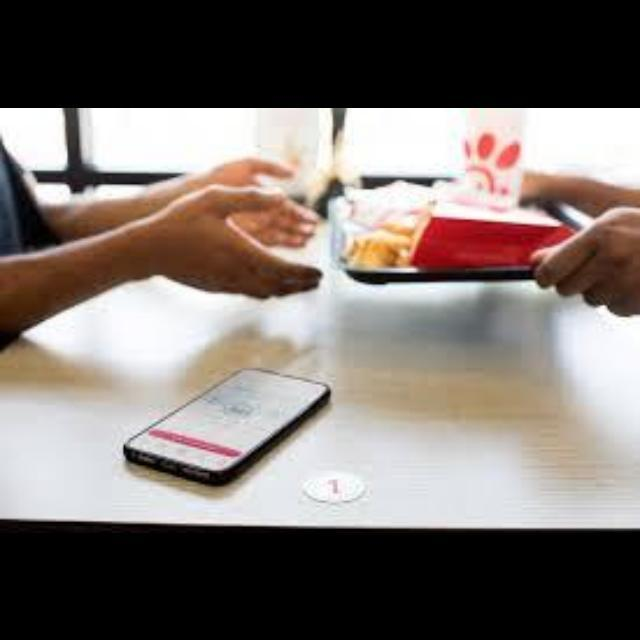PhoneUse: (124, 366, 332, 486)
